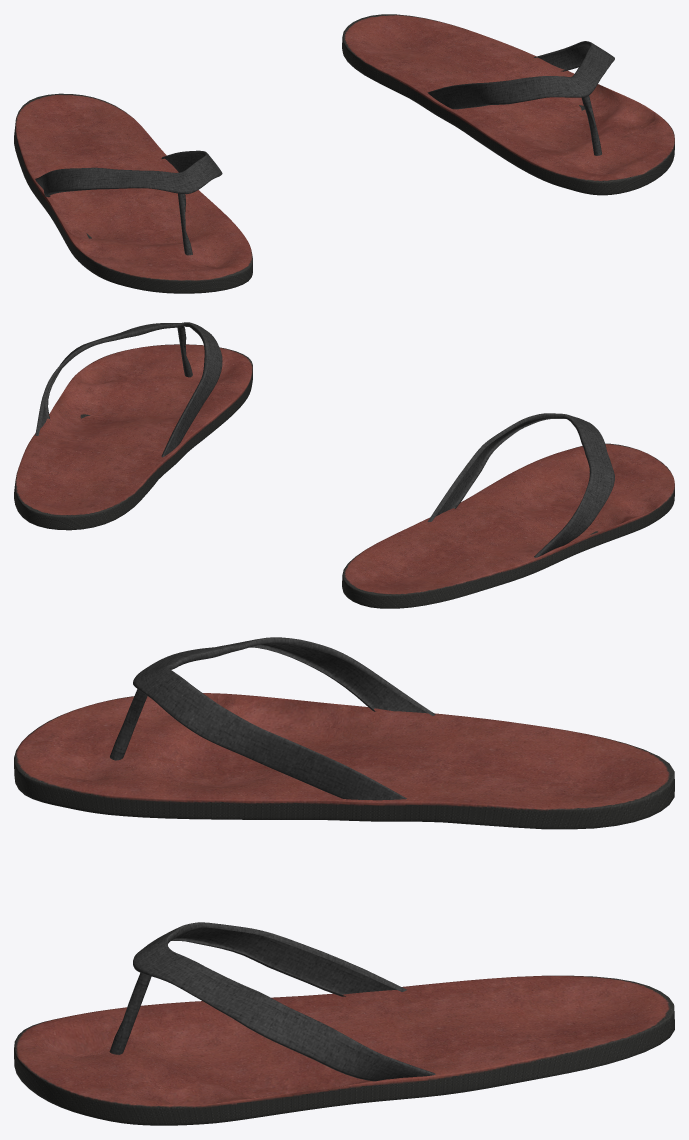
Rendered from Slippers.glb.
3 views of the same model, one above another, from view 1: azimuth 30°, elevation 25°; view 2: azimuth 150°, elevation 25°; view 3: azimuth 270°, elevation 25° (orthographic). The views are drawn at different scales.
Parts seen in each view (by area): view 1: 073Thongs_5442; view 2: 073Thongs_5442; view 3: 073Thongs_5442.
Part boxes in pixels (left/top/right/bottom): 073Thongs_5442: left=14, top=14, right=674, bottom=293; 073Thongs_5442: left=14, top=322, right=674, bottom=608; 073Thongs_5442: left=14, top=637, right=674, bottom=1125.
Size of the model in its own units: 7.28 by 0.9886 by 4.92.
2 materials, 2 textured.
